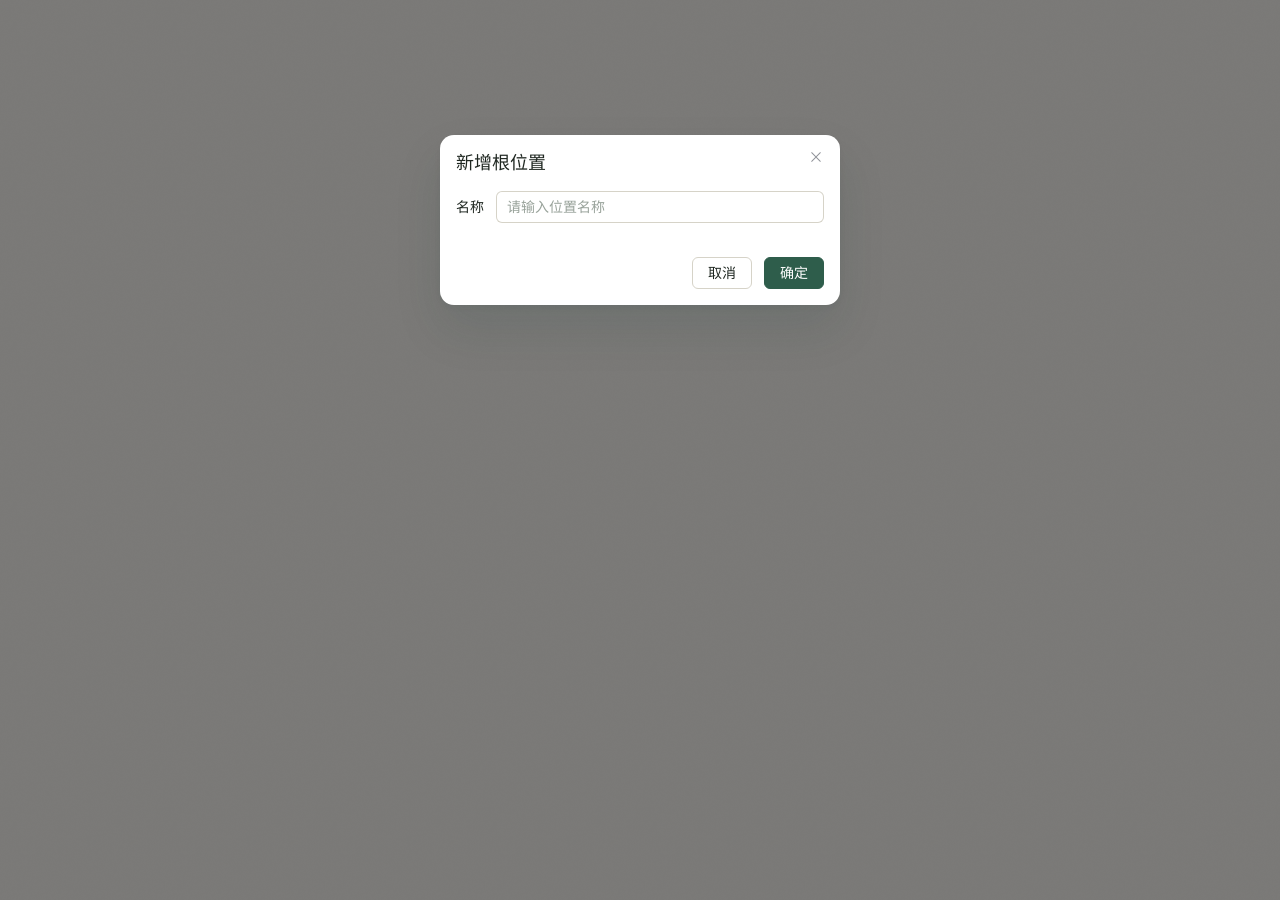
LocationCreateDialog › warns and does not submit when the name is blank
Click the button "确定" at [794, 273], box [764, 257, 824, 289]
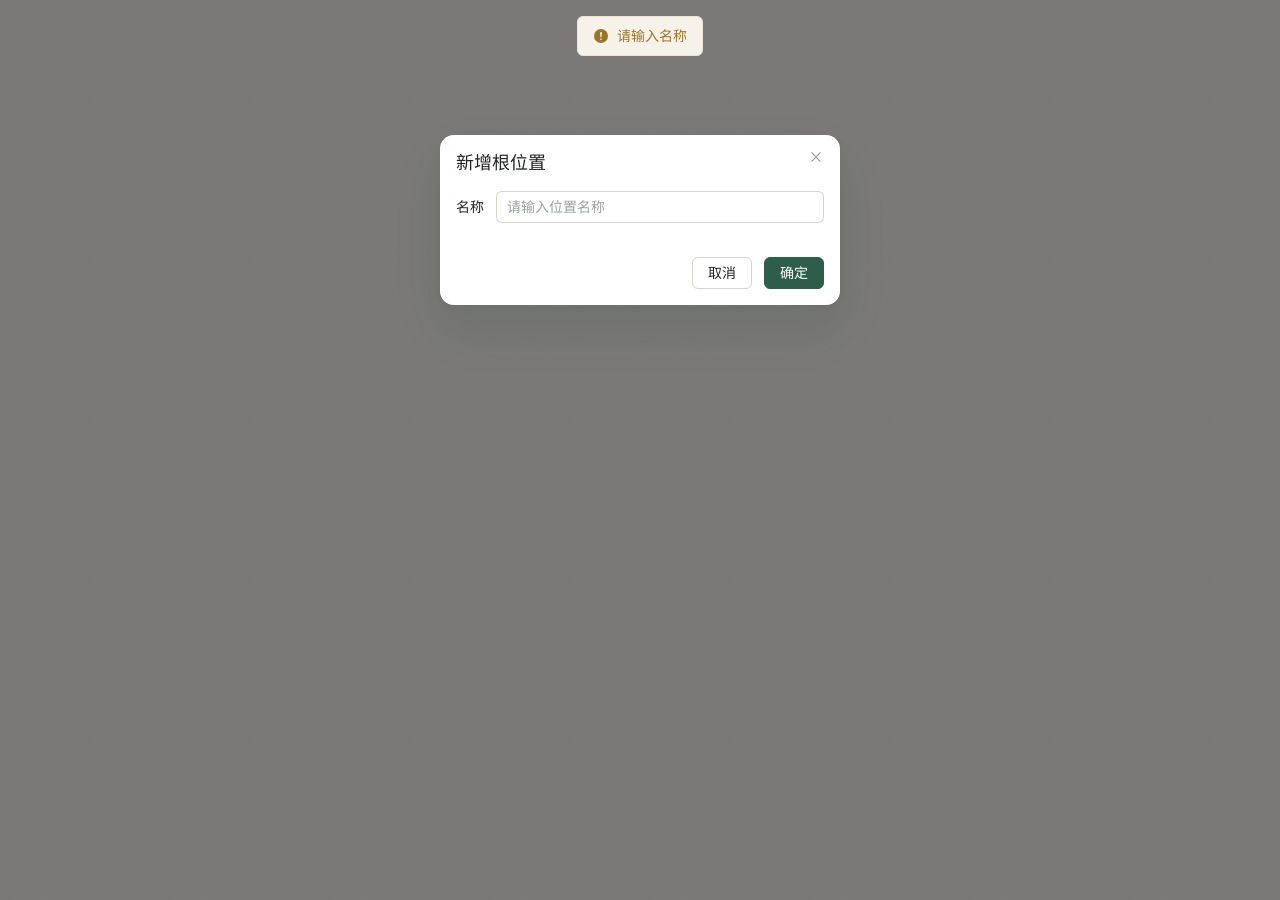
Now the message "请输入名称" is shown, box [577, 16, 703, 56]
